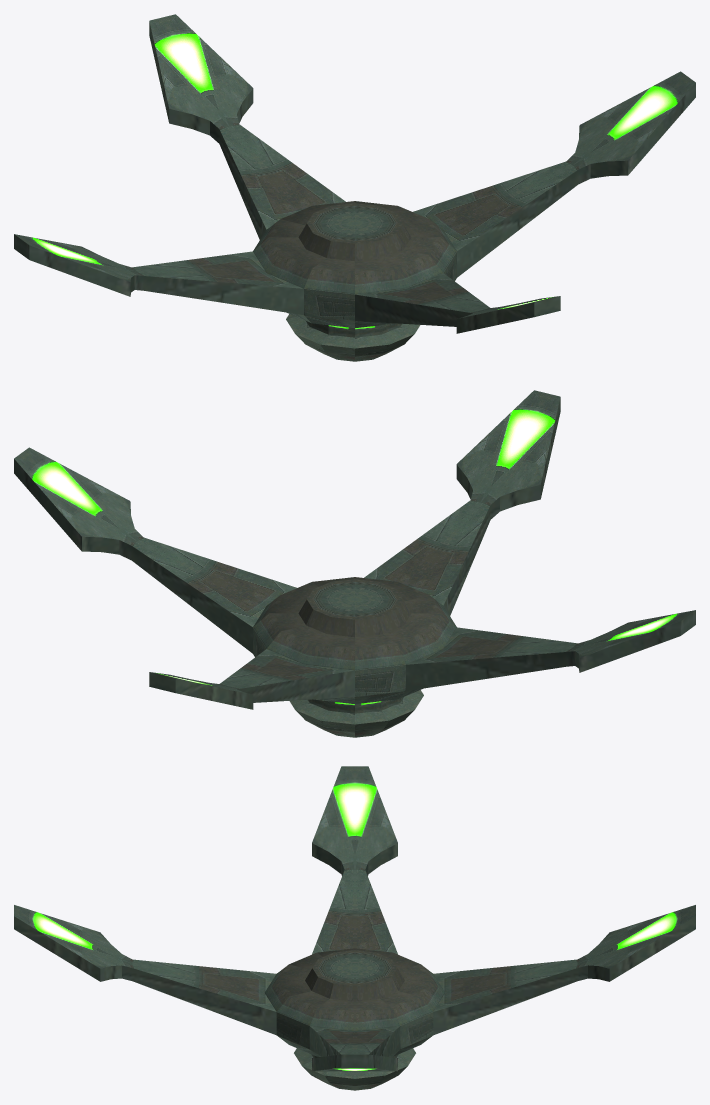
File: Rom_Small_Turret.fbx
3 views of the same model, one above another, from view 1: azimuth 30°, elevation 25°; view 2: azimuth 150°, elevation 25°; view 3: azimuth 270°, elevation 25° (orthographic). The views are drawn at different scales.
Parts seen in each view (by area): view 1: Rom_Small_Turret; view 2: Rom_Small_Turret; view 3: Rom_Small_Turret.
Part boxes in pixels (x1,y1,x2,y2): Rom_Small_Turret: (14, 14, 695, 361); Rom_Small_Turret: (14, 390, 695, 737); Rom_Small_Turret: (14, 766, 695, 1090).
Bounding box in the file's own units: 269 × 76.05 × 269.
Materials: 1 (1 with a texture image).
